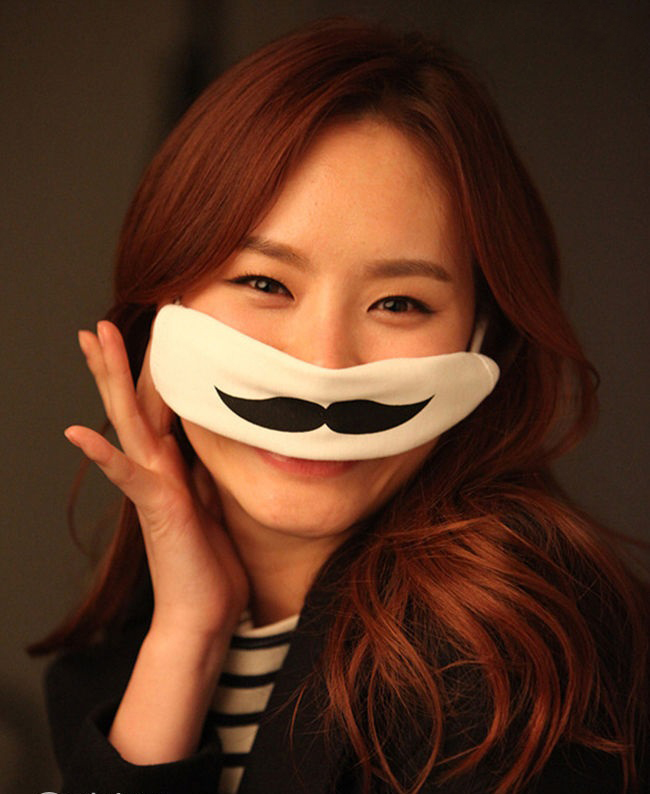face: (177, 123, 470, 537)
